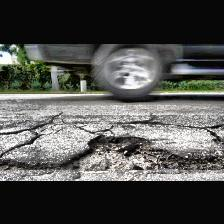pothole: (58, 132, 188, 172)
